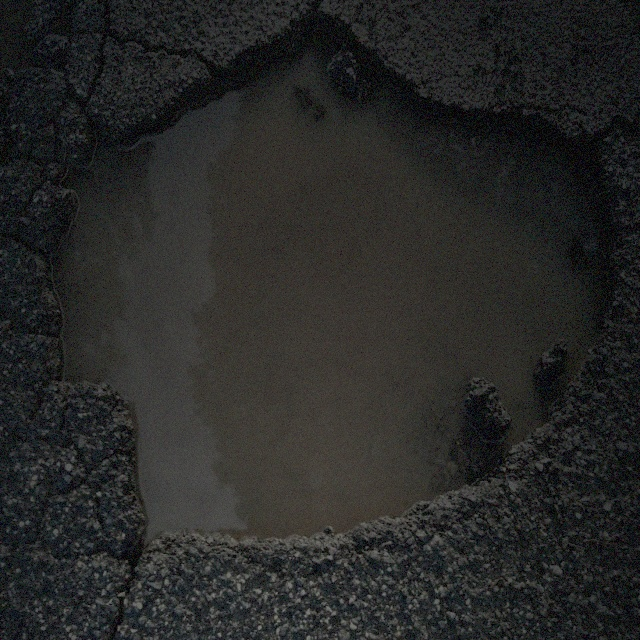pothole: (41, 13, 618, 576)
